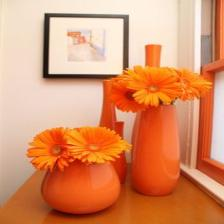orange: (110, 66, 213, 196), (27, 127, 131, 172), (133, 105, 180, 196), (41, 161, 121, 214)
